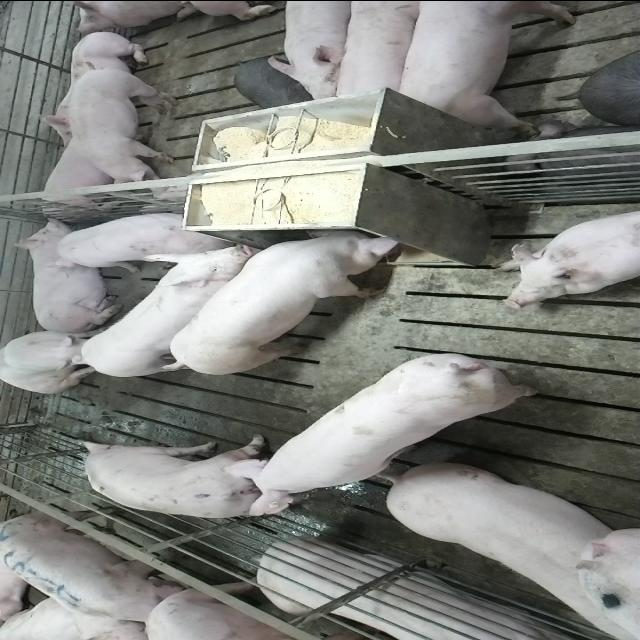Feeding: (164, 219, 409, 371)
Sitting: (1, 328, 107, 393)
Standing: (242, 347, 550, 511), (377, 458, 632, 634), (78, 244, 270, 382), (388, 1, 584, 133), (0, 509, 210, 626), (75, 433, 278, 519), (71, 64, 177, 188), (332, 3, 429, 104), (54, 208, 222, 266), (268, 1, 354, 102)
Sternal_lying: (499, 204, 640, 306), (30, 32, 156, 144), (15, 216, 123, 332), (35, 138, 120, 212)
